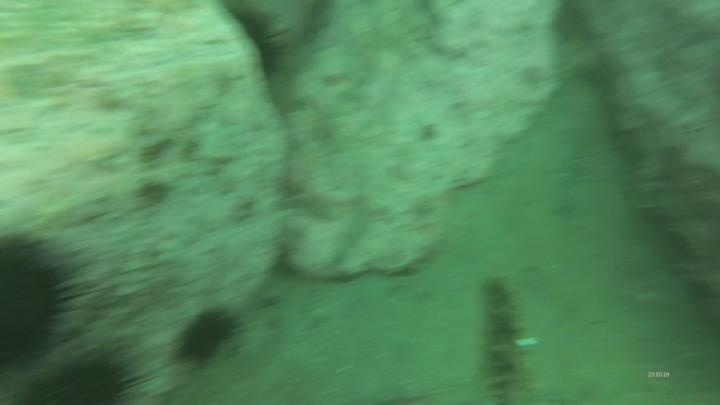echinus: (0, 225, 101, 373), (11, 347, 146, 404), (173, 304, 242, 368)
holothurian: (473, 274, 536, 405)
